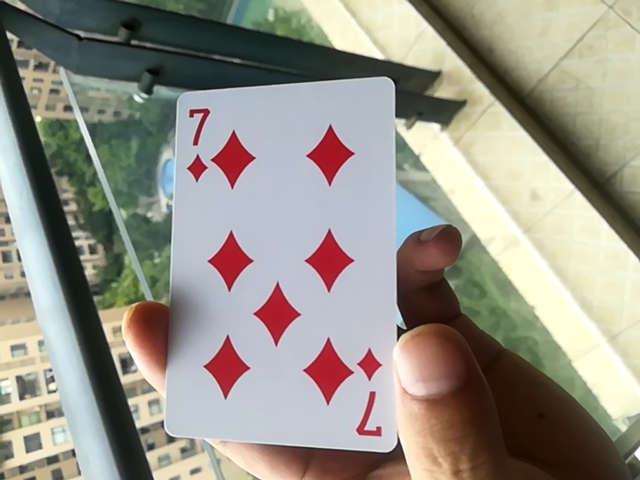fk 7: (161, 84, 406, 455)
